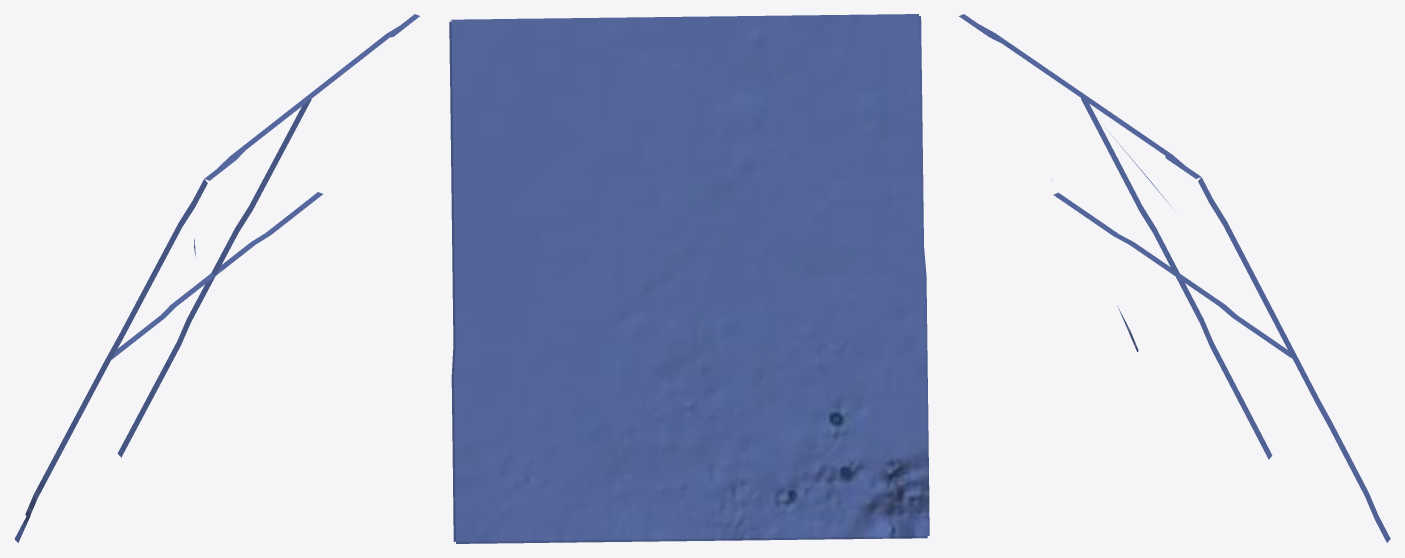
The picture shows the model from 3 angles, left to right: view 1: azimuth 30°, elevation 25°; view 2: azimuth 150°, elevation 25°; view 3: azimuth 270°, elevation 25°; orthographic projection. The views are drawn at different scales.
Bounding box in the file's own units: 157567 × 142667 × 134447.
Materials: 1 (1 with a texture image).
